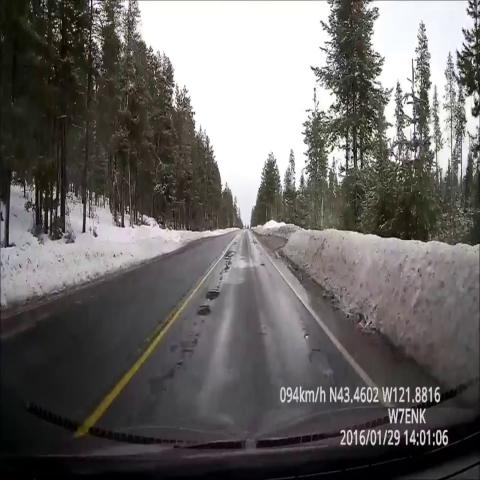pothole: (298, 320, 338, 385), (171, 325, 203, 374), (194, 275, 226, 322), (216, 241, 241, 280)
